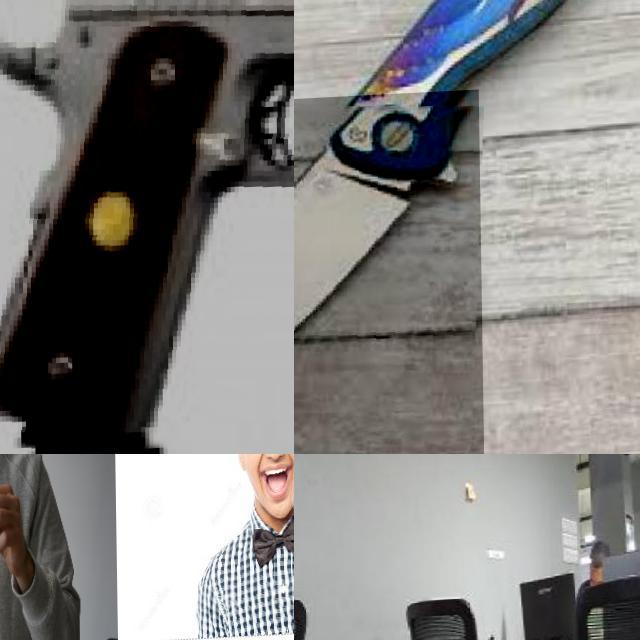-: (294, 94, 504, 454)
gun-knife-thesis - v11 Yolov5 augmented: (0, 0, 294, 454)
